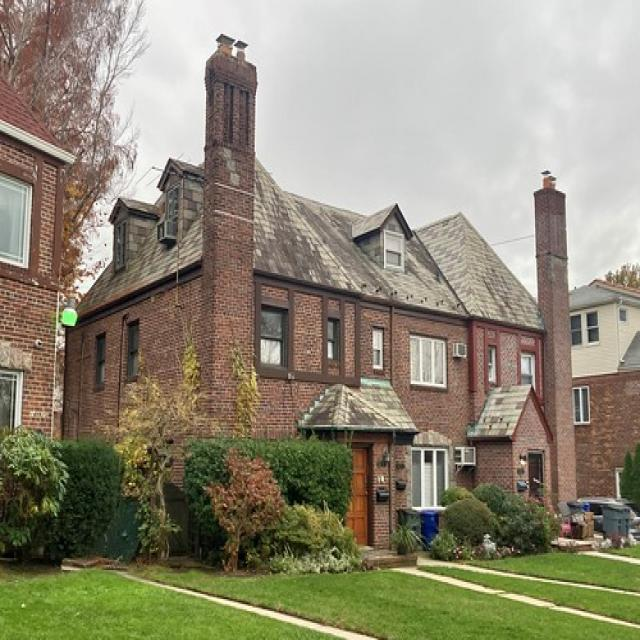Normal_building: (61, 44, 573, 572)
